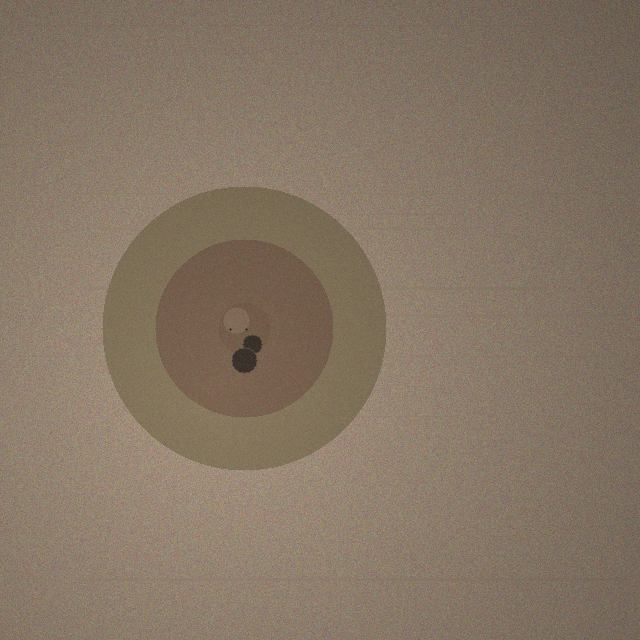shrinkage: (102, 186, 386, 470)
